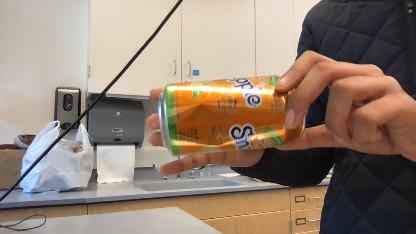Can: (156, 74, 308, 154)
